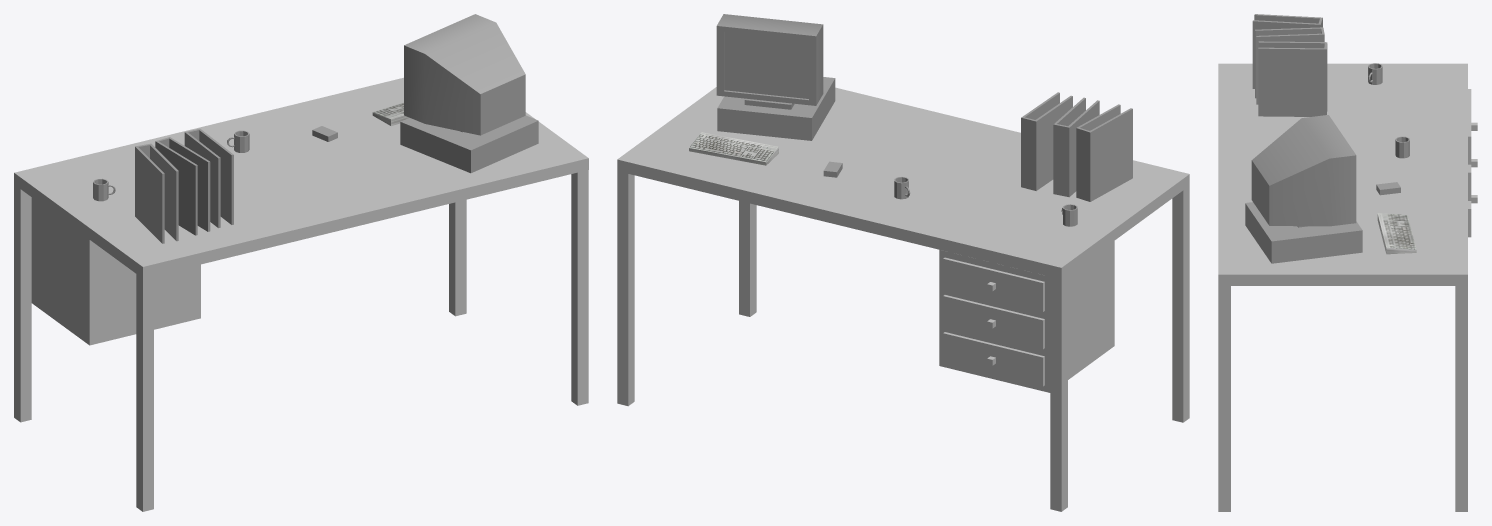
Rendered from lab-desk.fbx.
3 renders of one model, left to right at view 1: azimuth 30°, elevation 25°; view 2: azimuth 150°, elevation 25°; view 3: azimuth 270°, elevation 25°, orthographic. The views are drawn at different scales.
Visible parts, largest first — view 1: top1, drawer_unit, monitor, left (×3), pc, leg2, leg3, leg1, right (×3), leg; view 2: top1, drawer_unit, left (×3), glass, leg1, leg, leg2, monitor, pc, drawer3, drawer2, drawer1 (+3 smaller); view 3: top1, monitor, right (×3), pc, leg3, leg, left (×3), keyboard, drawer1.
Boxes of the visible parts, x1,y1,x2,y2 form: top1: (14, 77, 588, 278); drawer_unit: (31, 197, 200, 345); monitor: (404, 14, 525, 135); left (×3): (135, 131, 220, 243); pc: (400, 115, 538, 173); leg2: (136, 274, 153, 511); leg3: (571, 170, 588, 405); leg1: (14, 184, 31, 422); right (×3): (149, 128, 233, 241); leg: (449, 199, 466, 316); top1: (617, 87, 1189, 279); drawer_unit: (939, 241, 1114, 392); left (×3): (1034, 95, 1132, 201); glass: (724, 31, 808, 98); leg1: (1050, 275, 1067, 511); leg: (617, 171, 634, 406); leg2: (1172, 186, 1189, 422); monitor: (716, 14, 823, 105); pc: (717, 77, 835, 140); drawer3: (943, 332, 1044, 386); drawer2: (943, 295, 1044, 349); drawer1: (943, 257, 1044, 311); top1: (1218, 63, 1467, 285); monitor: (1251, 115, 1356, 226); right (×3): (1252, 20, 1326, 116); pc: (1245, 202, 1362, 263); leg3: (1218, 286, 1230, 511); leg: (1455, 286, 1467, 511); left (×3): (1254, 14, 1327, 98); keyboard: (1377, 213, 1416, 254); drawer1: (1468, 89, 1471, 164).
Size of the model in its own units: 200 by 149 by 104.
